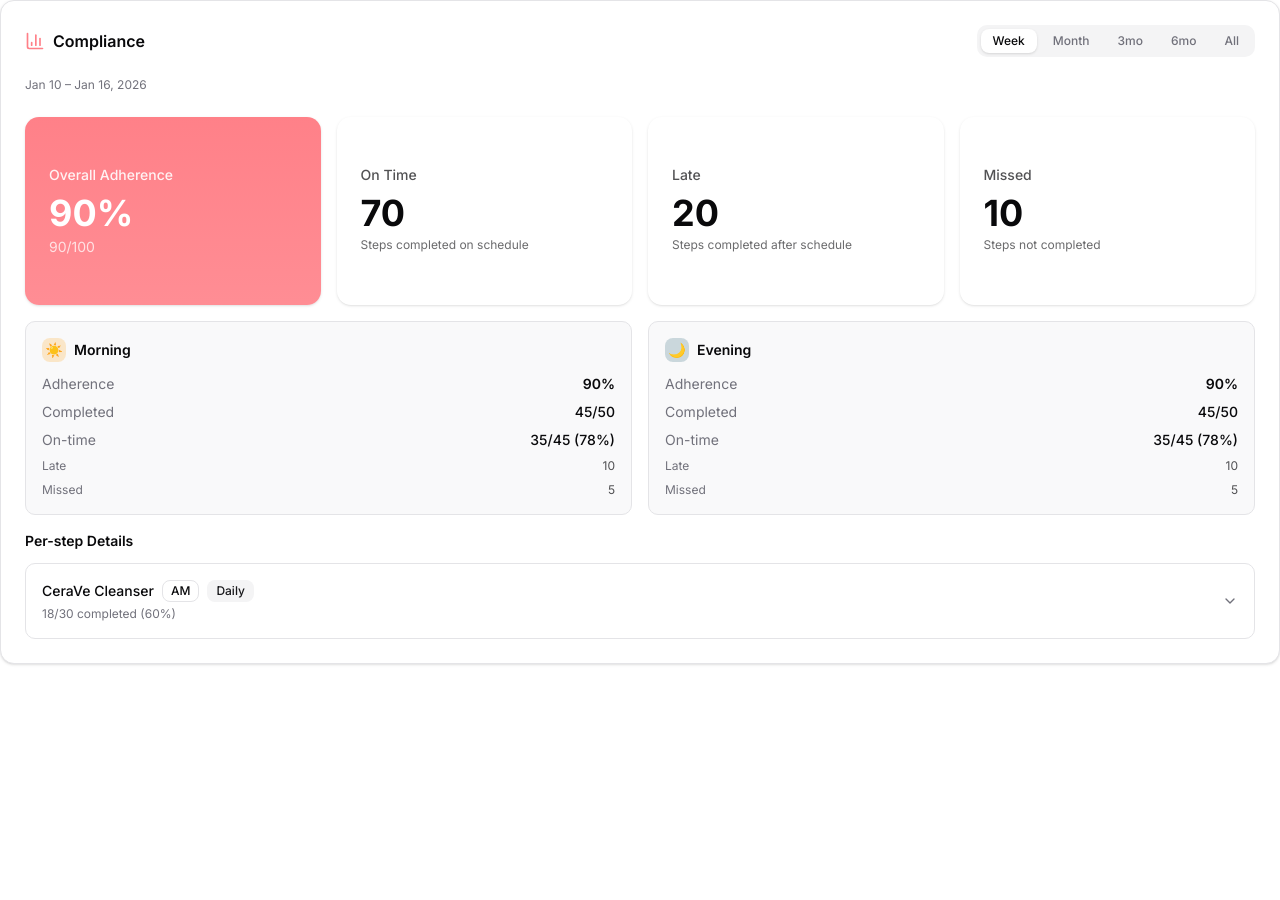
Test: ComplianceSection - UI Tests › user views step with many missed dates and sees truncated list
# User expands step
Click the text "CeraVe Cleanser" at (98, 591), box [42,581,154,601]
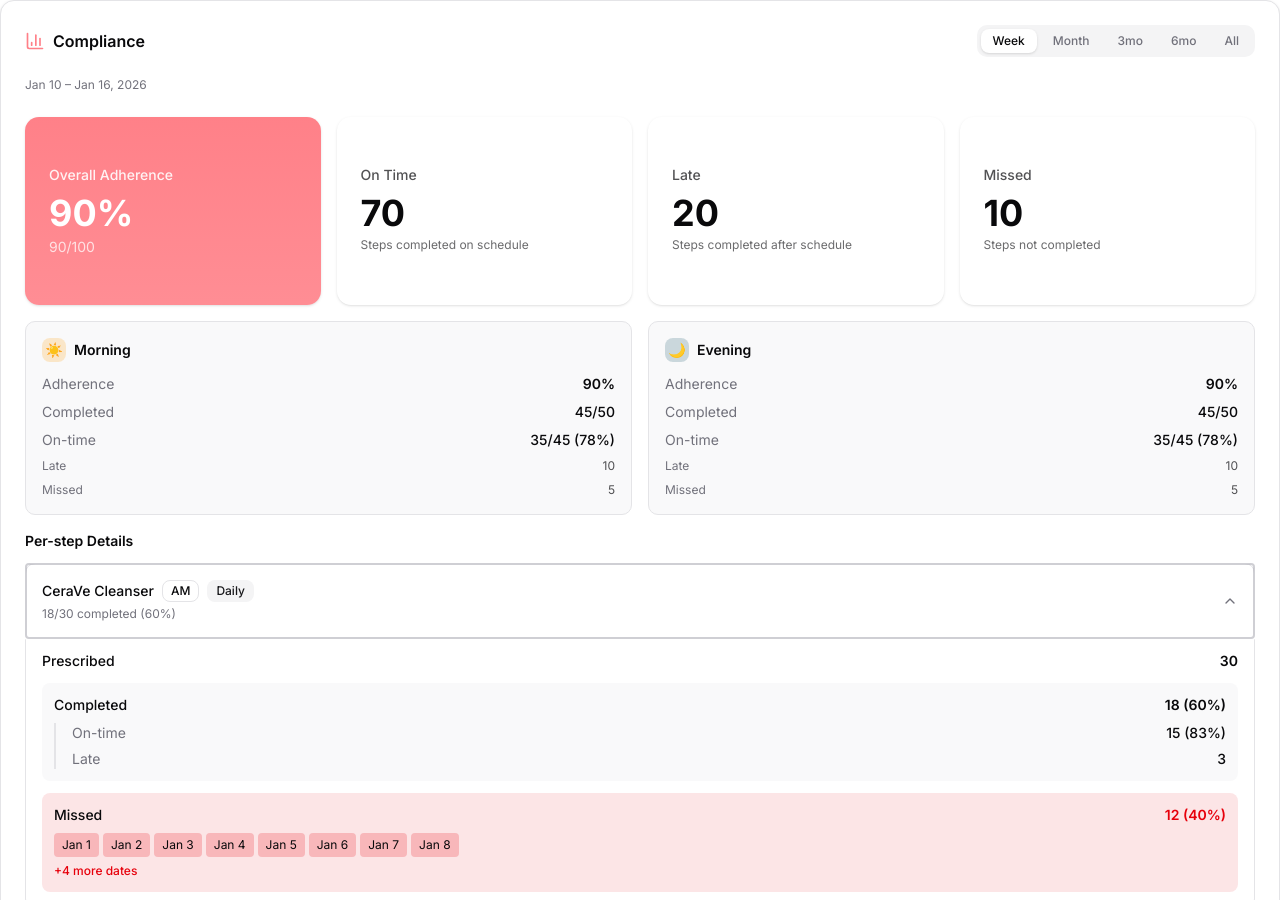
Now the text "Jan 1" is shown, box [54,833,99,856]
Now the text "Jan 8" is shown, box [411,833,459,856]
Now the text "+4 more dates" is shown, box [54,862,137,878]
